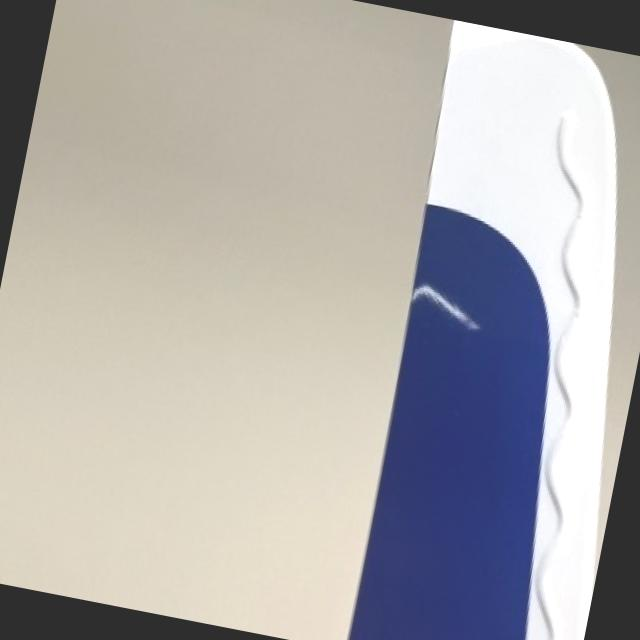healthy: (347, 21, 614, 640)
